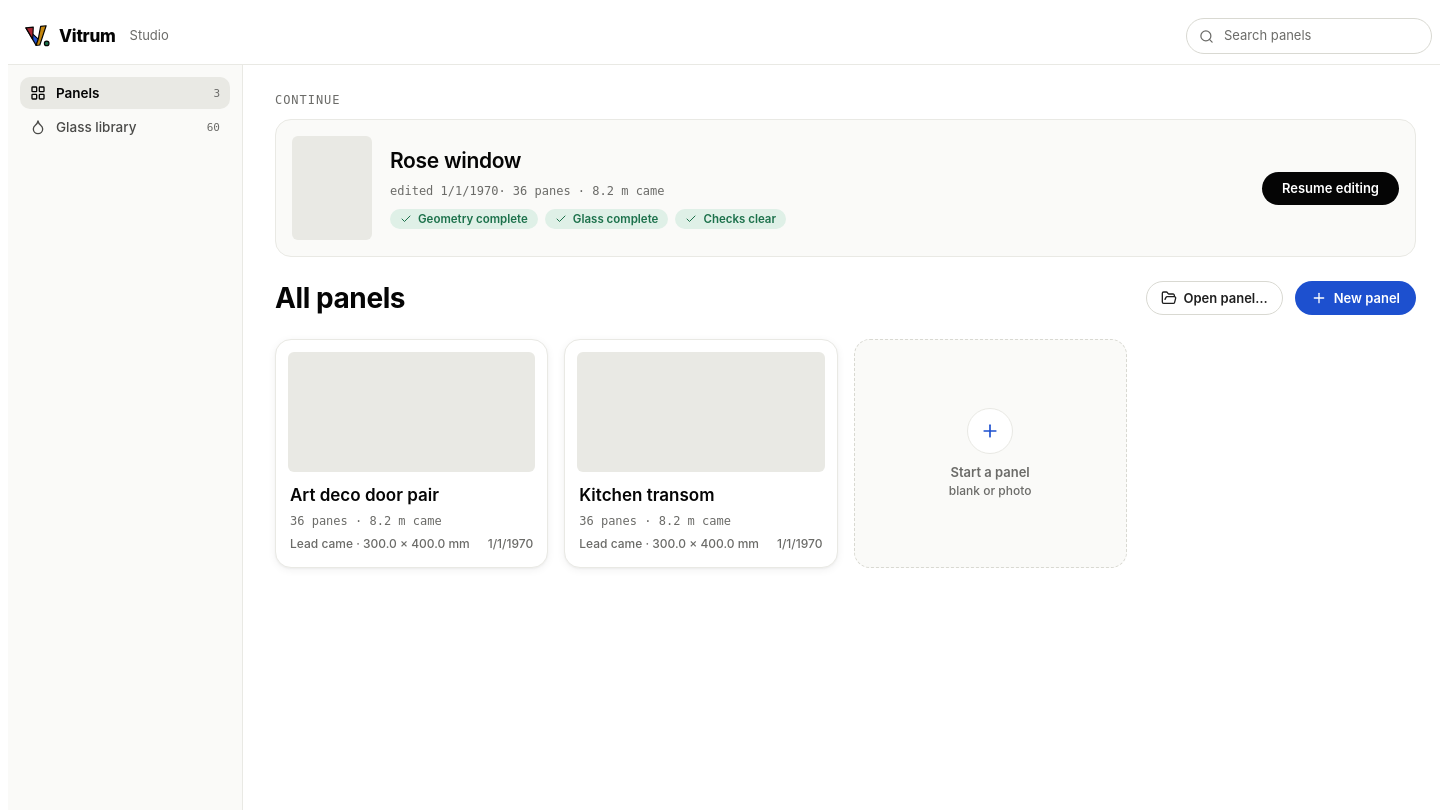
Test: LibraryScreen — search (FR-11) › distinguishes "no matches" from an empty library
Type "zzz" into the search field labelled "Search panels" at (1320, 36), box [1222, 25, 1419, 47]
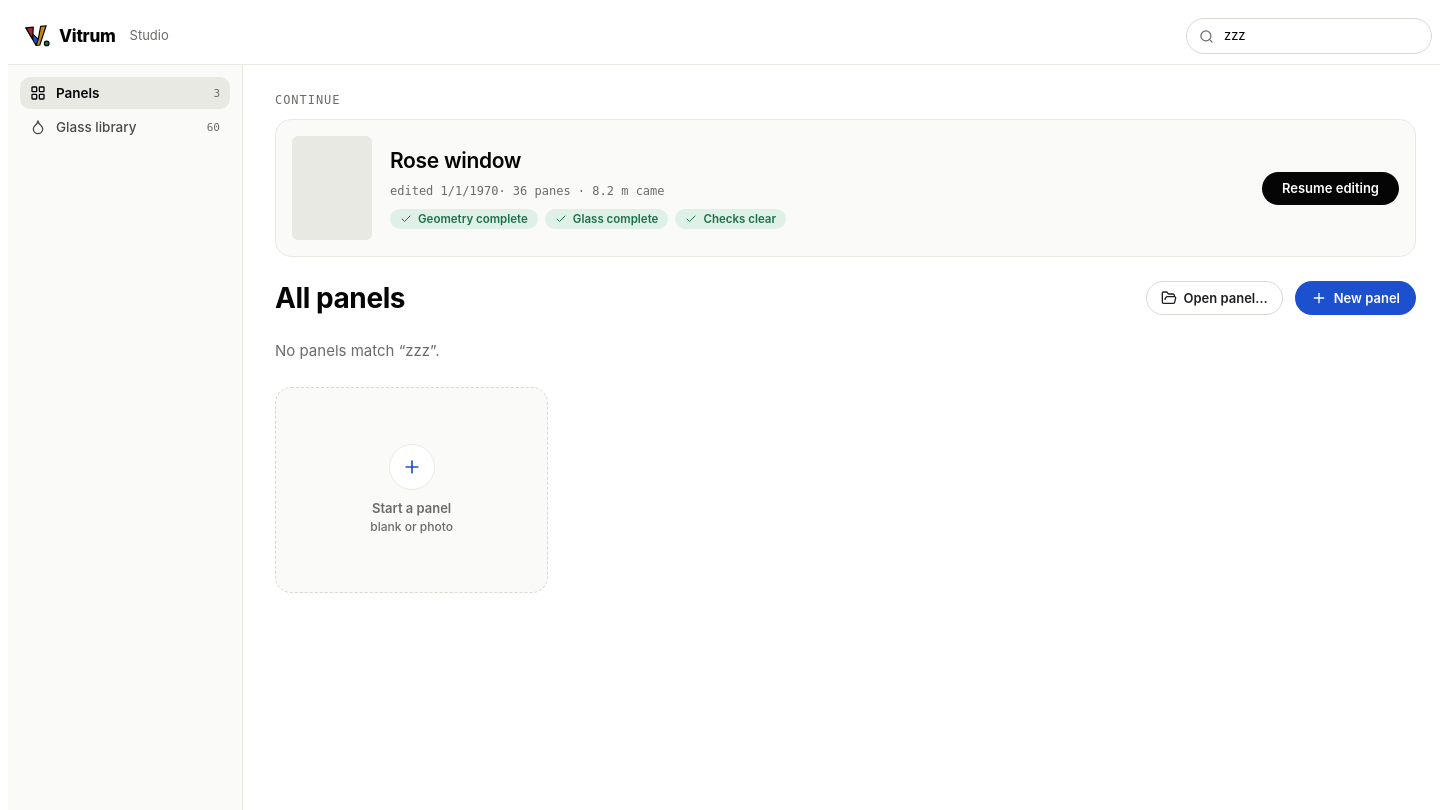
Expected: the text with test id "library-no-matches" shows "No panels match", [275, 341, 440, 360]
